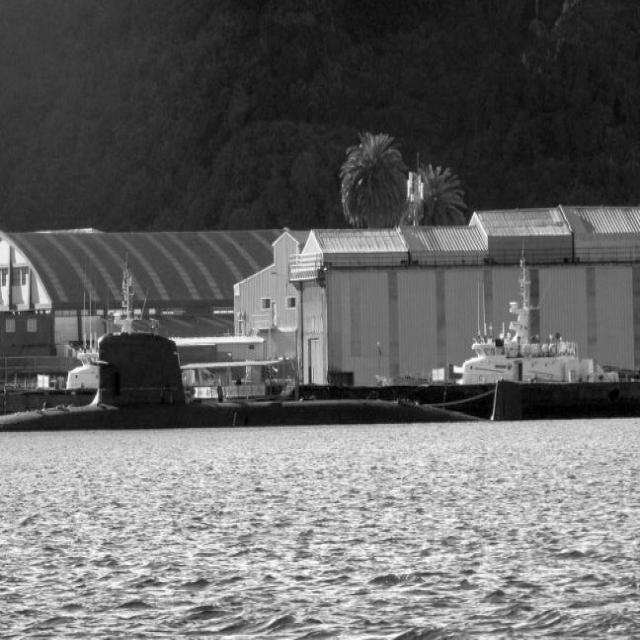submarine: (1, 314, 577, 425)
